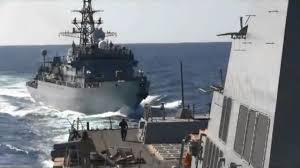tau_muctieu: (25, 12, 148, 110)
